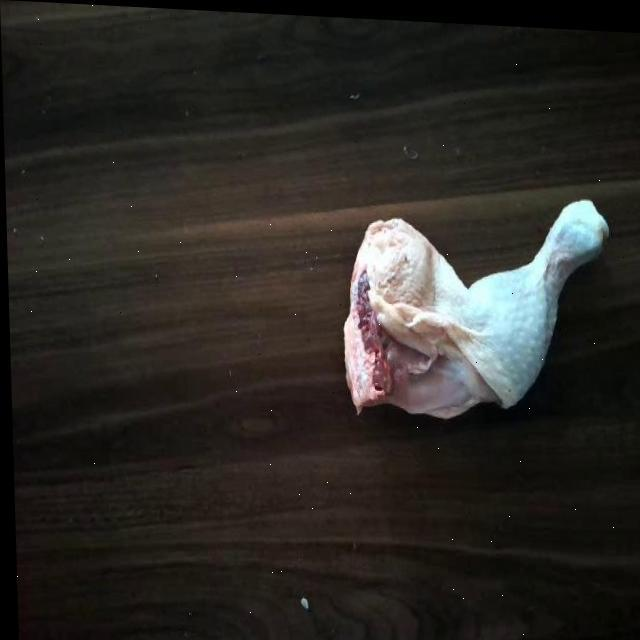quater: (336, 175, 614, 448)
